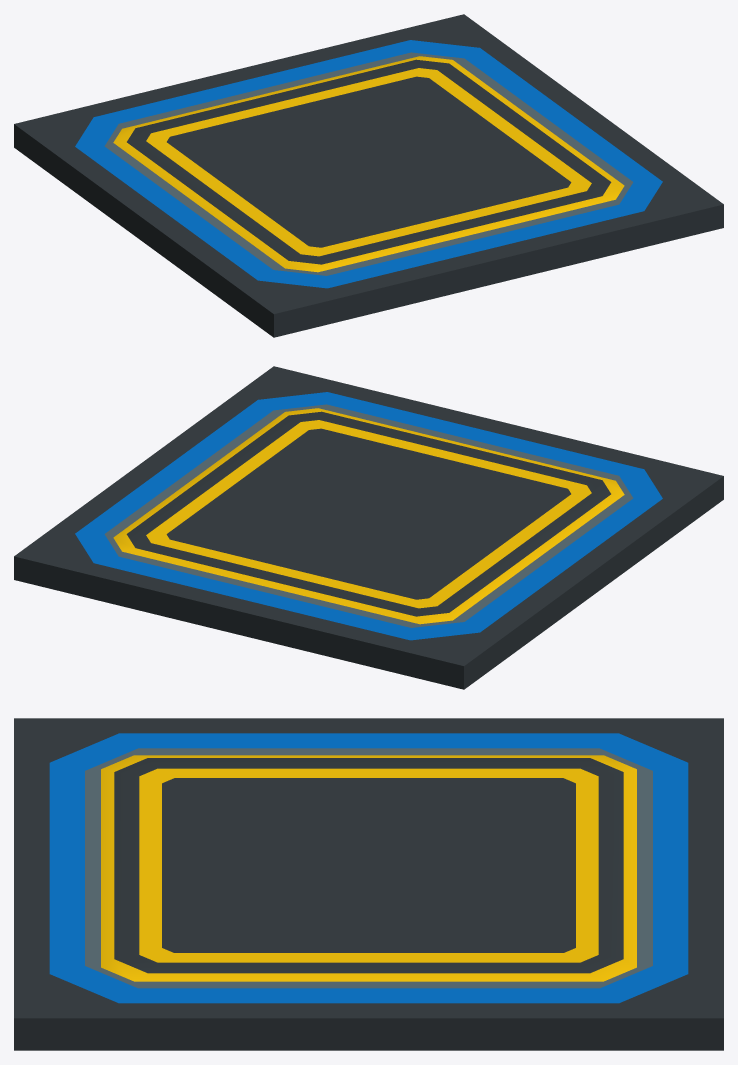
Rendered from Platform_009.glb.
3 views of the same model, one above another, from view 1: azimuth 30°, elevation 25°; view 2: azimuth 150°, elevation 25°; view 3: azimuth 270°, elevation 25° (orthographic). The views are drawn at different scales.
Parts seen in each view (by area): view 1: Platform_009; view 2: Platform_009; view 3: Platform_009.
Part boxes in pixels (box(x1,y1,x2,y2)): Platform_009: box(14, 14, 723, 337); Platform_009: box(14, 366, 723, 689); Platform_009: box(14, 718, 723, 1050).
Size of the model in its own units: 4 by 0.2345 by 4.
Materials: 2 (2 with a texture image).
